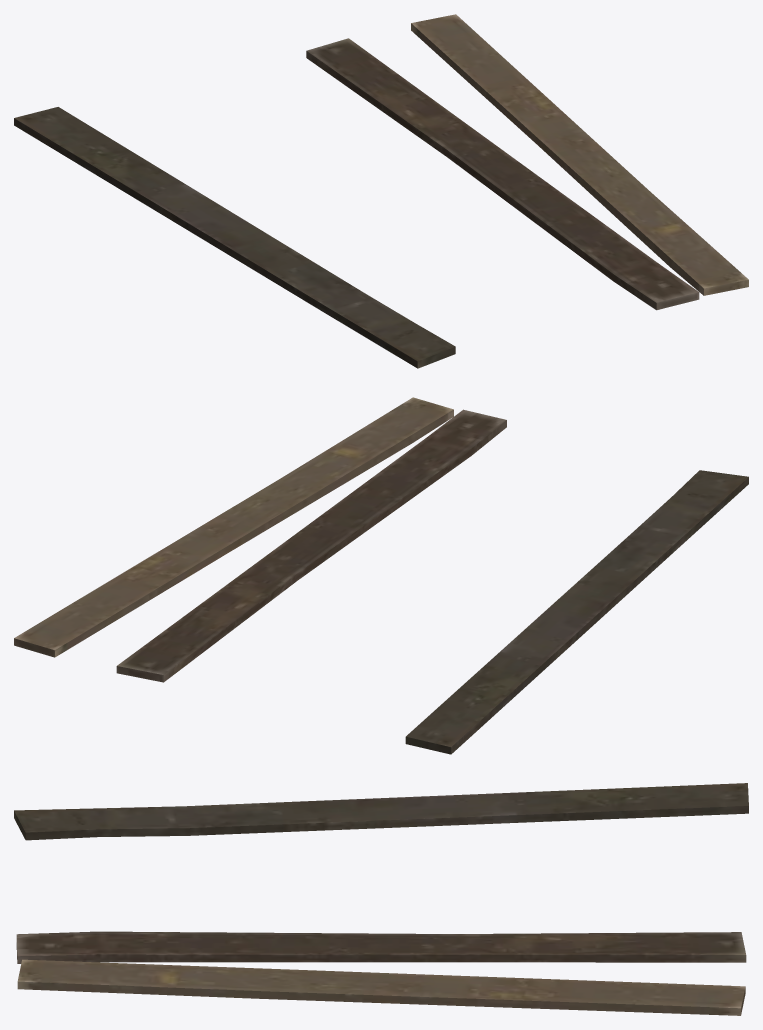
Rendered from floor.frontier_variant_detail_a.glb.
The picture shows the model from 3 angles, top to bottom: view 1: azimuth 30°, elevation 25°; view 2: azimuth 150°, elevation 25°; view 3: azimuth 270°, elevation 25°; orthographic projection. The views are drawn at different scales.
Parts seen in each view (by area): view 1: floor_a_detail_LOD0; view 2: floor_a_detail_LOD0; view 3: floor_a_detail_LOD0.
Boxes of the visible parts, bbox=[...] form: floor_a_detail_LOD0: bbox=[14, 14, 748, 368]; floor_a_detail_LOD0: bbox=[14, 397, 748, 754]; floor_a_detail_LOD0: bbox=[14, 783, 748, 1015].
Size of the model in its own units: 2.18 by 0.043 by 3.02.
1 material, 1 textured.
